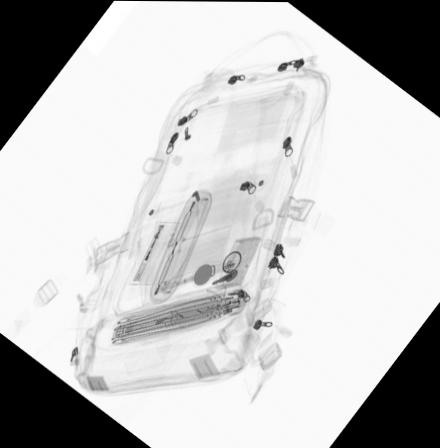Lighter: (130, 222, 166, 283)
